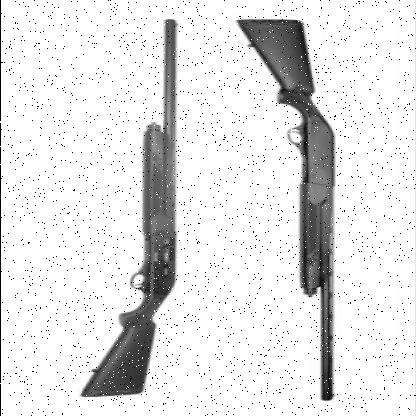rifle: (78, 14, 184, 398), (238, 20, 342, 400)
